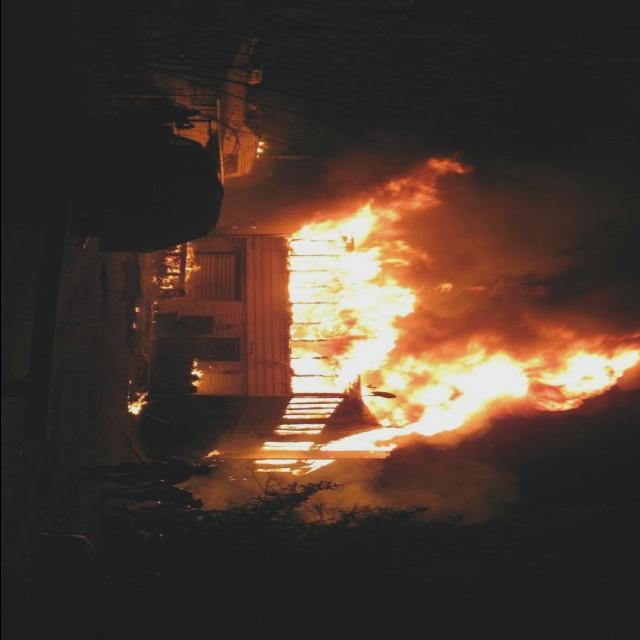Fire: (249, 148, 636, 482), (150, 246, 202, 294), (124, 388, 154, 416), (187, 355, 206, 387), (200, 448, 232, 460), (254, 140, 264, 155)
